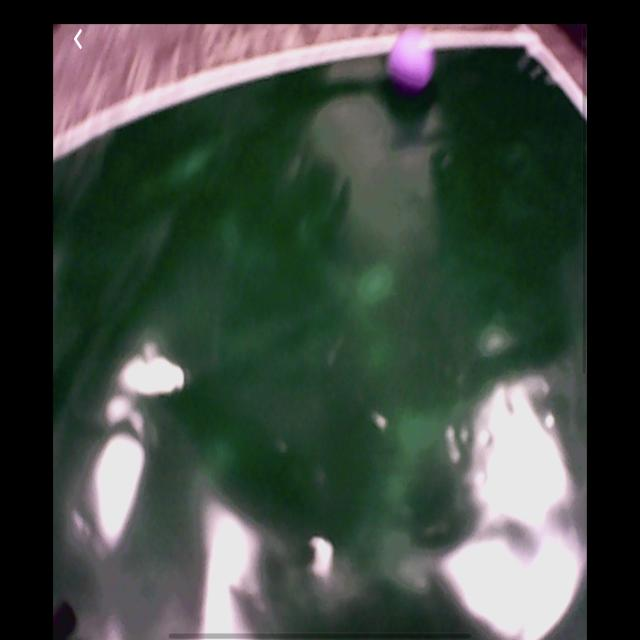ball: (387, 26, 438, 95)
